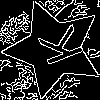K: (29, 23, 85, 72)
